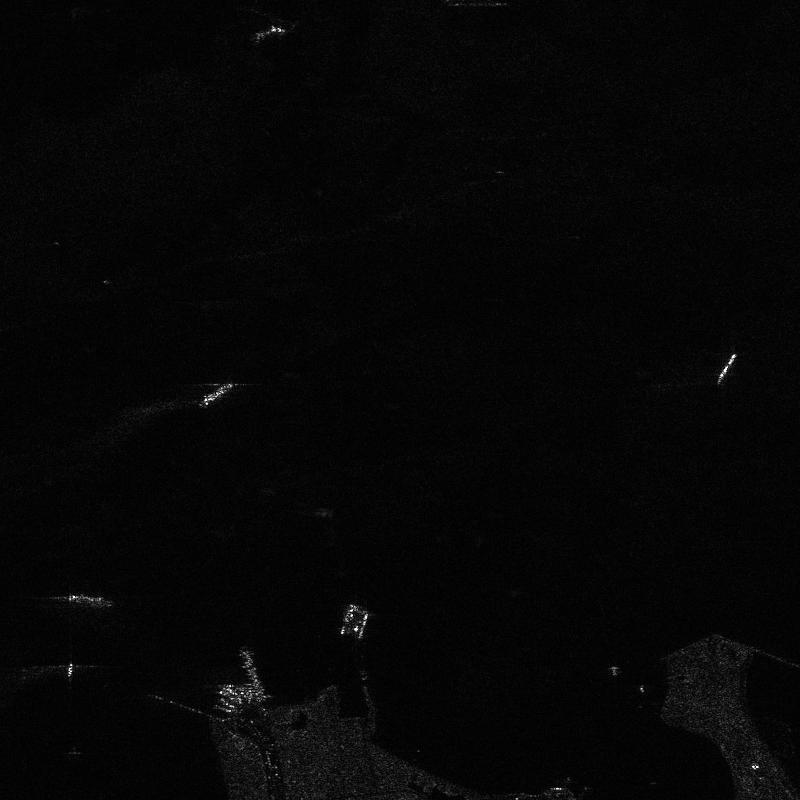ship: (199, 382, 232, 408), (717, 353, 736, 384), (68, 594, 105, 607), (255, 26, 282, 40), (220, 686, 238, 700), (213, 705, 231, 713), (220, 698, 234, 708), (67, 663, 73, 676), (612, 666, 617, 676)
